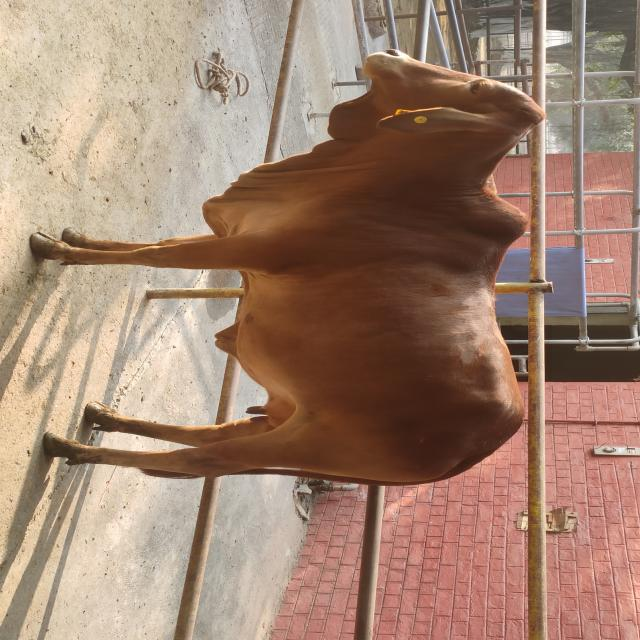cow: (29, 48, 546, 487)
hump: (481, 185, 533, 254)
